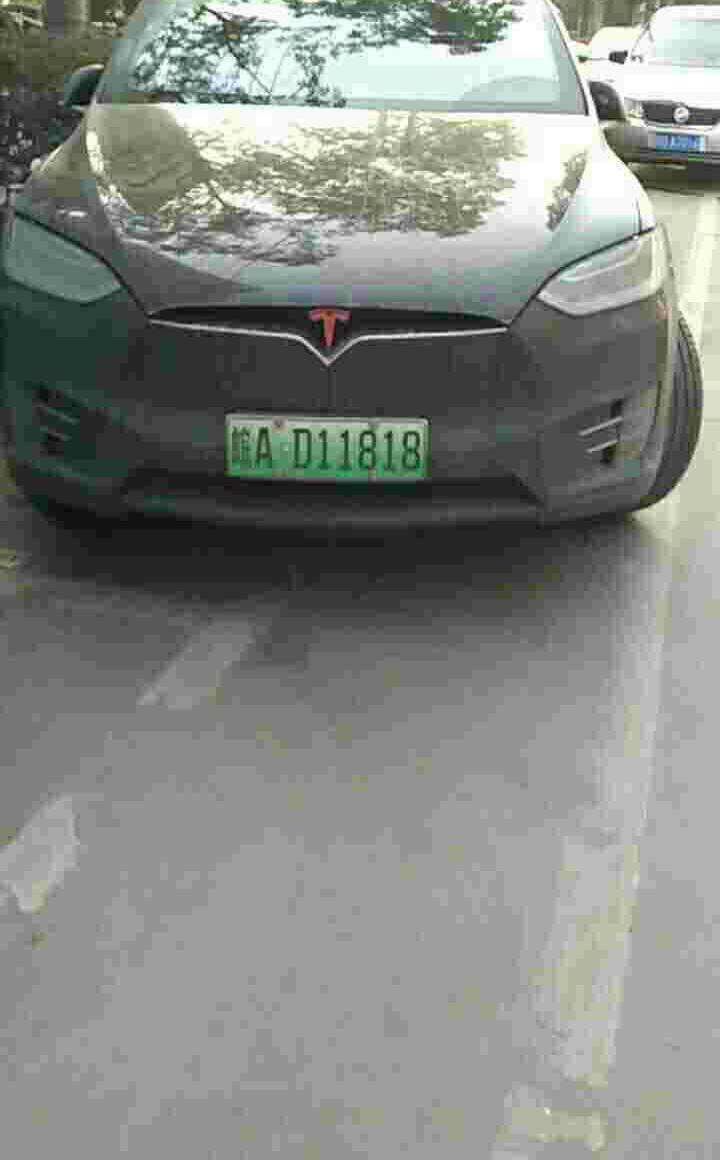car: (221, 415, 424, 482)
